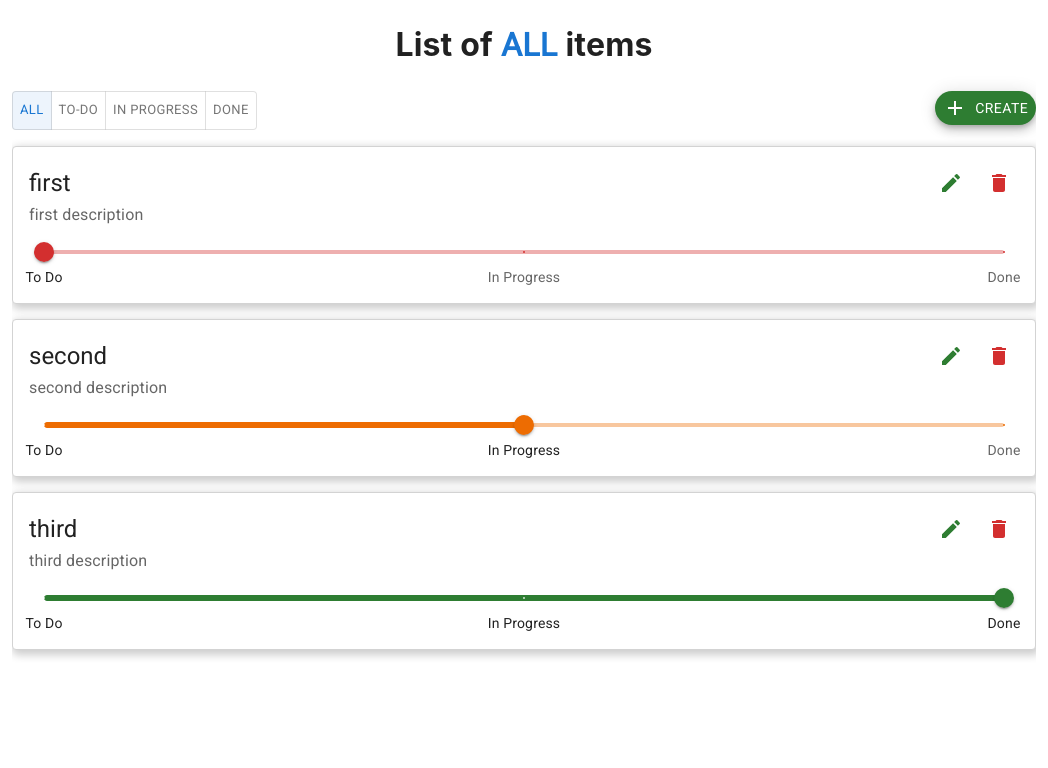
Test: Home › Should display only in-progress item cards
The width and height of the screenshot is (1048, 768).
Expected: the text "first description" is shown, [29, 205, 143, 224]
Expected: the text "second description" is shown, [29, 378, 167, 397]
What coordinates should you click on to do the following:
click the button "In Progress"
I would click on:
 (156, 110)
Its box is [105, 91, 206, 130].
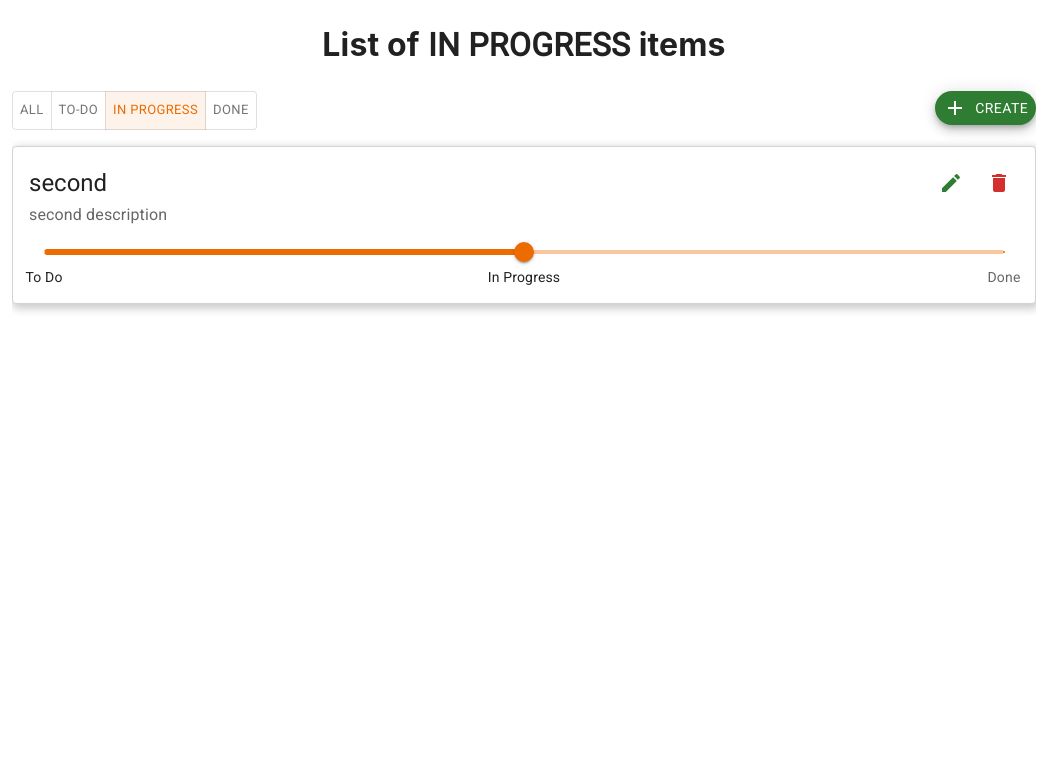
Expected: the text "second description" is shown, [29, 205, 167, 224]
Result: the text "first description" is gone
